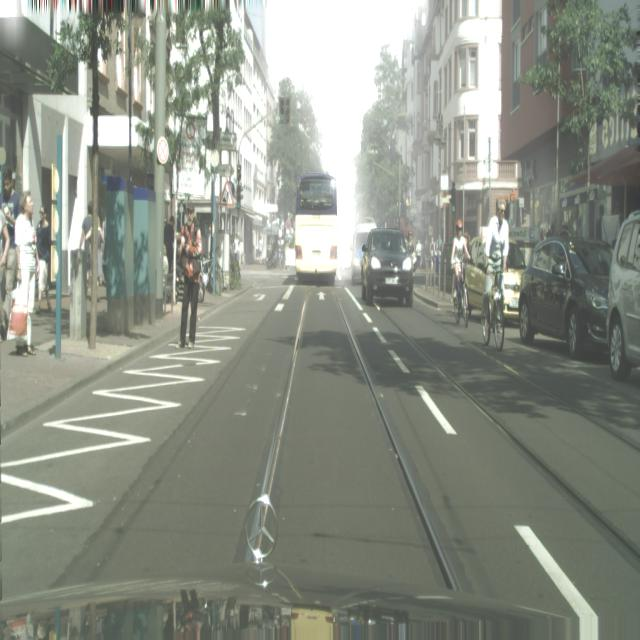bicycle: (294, 173, 338, 284)
bus: (15, 191, 38, 358), (177, 202, 203, 349), (484, 197, 509, 332), (0, 203, 16, 338), (450, 220, 470, 318), (36, 207, 52, 312)
car: (351, 221, 377, 283)
person: (518, 233, 613, 359), (606, 210, 640, 381), (463, 237, 535, 316), (360, 228, 414, 308), (351, 220, 376, 286)
truck: (481, 264, 505, 350), (452, 261, 470, 329)
